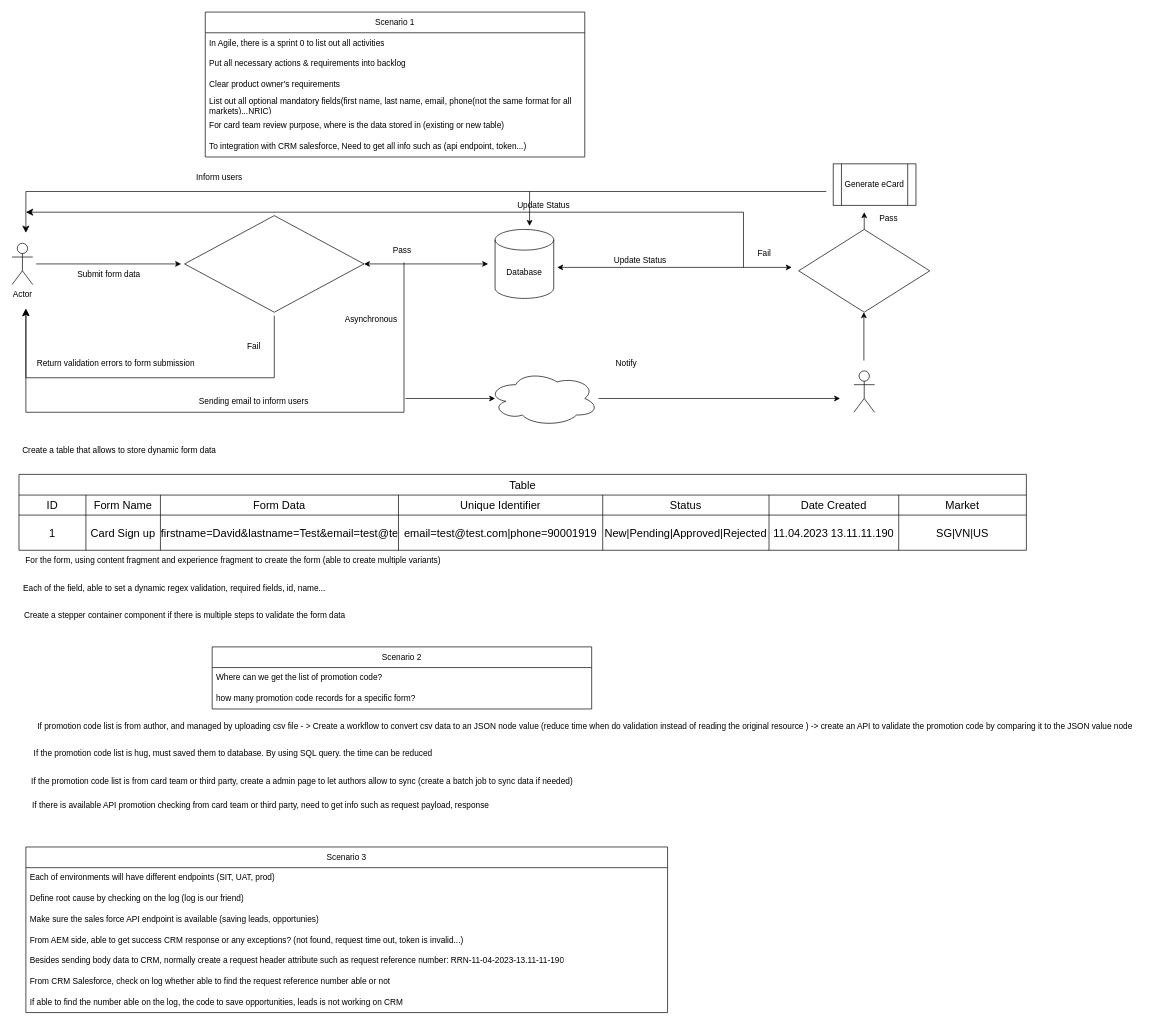
This 1163x1025 diagram has some shape labels left out. The shapes that lost their labels are listed below. From the top down, each one's centre as x and y in pixels, then its label:
the point at 274,263: Fields, unique Identifier, promotion, quota Validation
the point at 864,270: Review User's data submission
the point at 543,398: CRM salesforce
the point at 864,391: PO, Card Team managemnt
